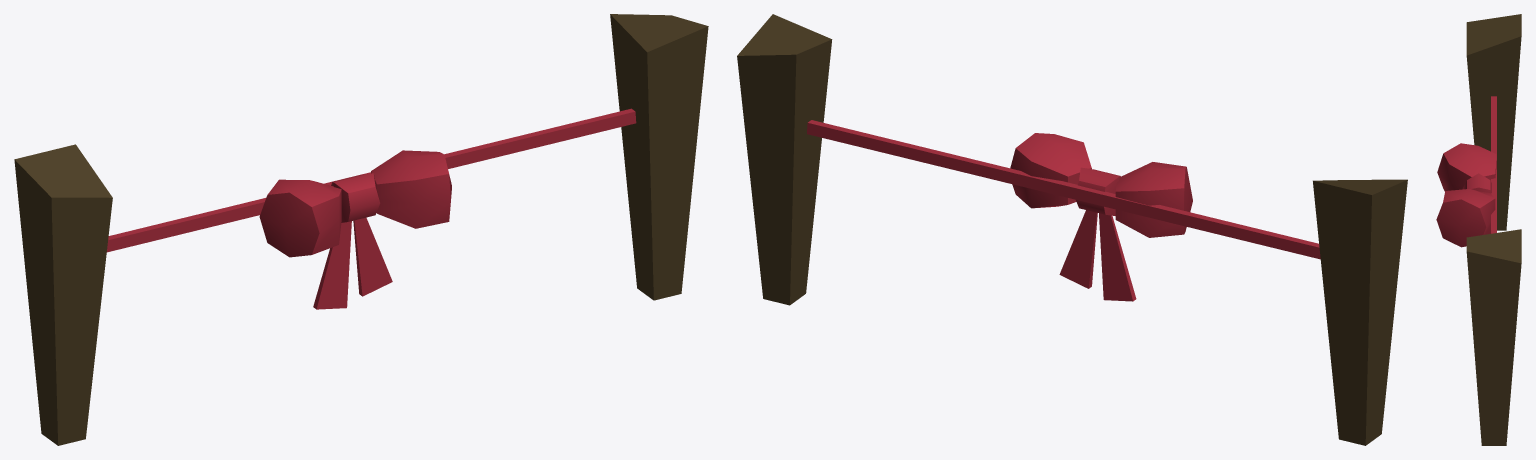
File: Finishline.fbx
3 views of the same model, side by side, from view 1: azimuth 30°, elevation 25°; view 2: azimuth 150°, elevation 25°; view 3: azimuth 270°, elevation 25° (orthographic). The views are drawn at different scales.
Visible parts, largest first — view 1: pCube1, pasted__pCube1, pCube2, pCube3, pasted__pCube3, pCube5, pasted__pCube5, pCube4; view 2: pasted__pCube1, pCube1, pCube2, pCube3, pasted__pCube3, pCube5, pasted__pCube5, pCube4; view 3: pasted__pCube1, pCube1, pasted__pCube3, pCube3, pCube2, pCube4.
Part boxes in pixels (x1,y1,x2,y2): pCube1: [14, 144, 112, 445]; pasted__pCube1: [610, 14, 708, 300]; pCube2: [106, 108, 636, 252]; pCube3: [259, 179, 341, 257]; pasted__pCube3: [371, 150, 451, 228]; pCube5: [313, 221, 351, 309]; pasted__pCube5: [353, 217, 392, 296]; pCube4: [331, 173, 380, 222]; pasted__pCube1: [737, 14, 832, 305]; pCube1: [1313, 179, 1407, 445]; pCube2: [807, 120, 1320, 259]; pCube3: [1115, 162, 1192, 237]; pasted__pCube3: [1010, 133, 1091, 208]; pCube5: [1099, 213, 1136, 301]; pasted__pCube5: [1059, 210, 1097, 288]; pCube4: [1076, 167, 1120, 215]; pasted__pCube1: [1466, 229, 1521, 445]; pCube1: [1466, 14, 1521, 230]; pasted__pCube3: [1436, 189, 1495, 247]; pCube3: [1437, 143, 1496, 191]; pCube2: [1491, 96, 1496, 233]; pCube4: [1462, 173, 1491, 193].
Size of the model in its own units: 7.59 by 2.99 by 1.15.
